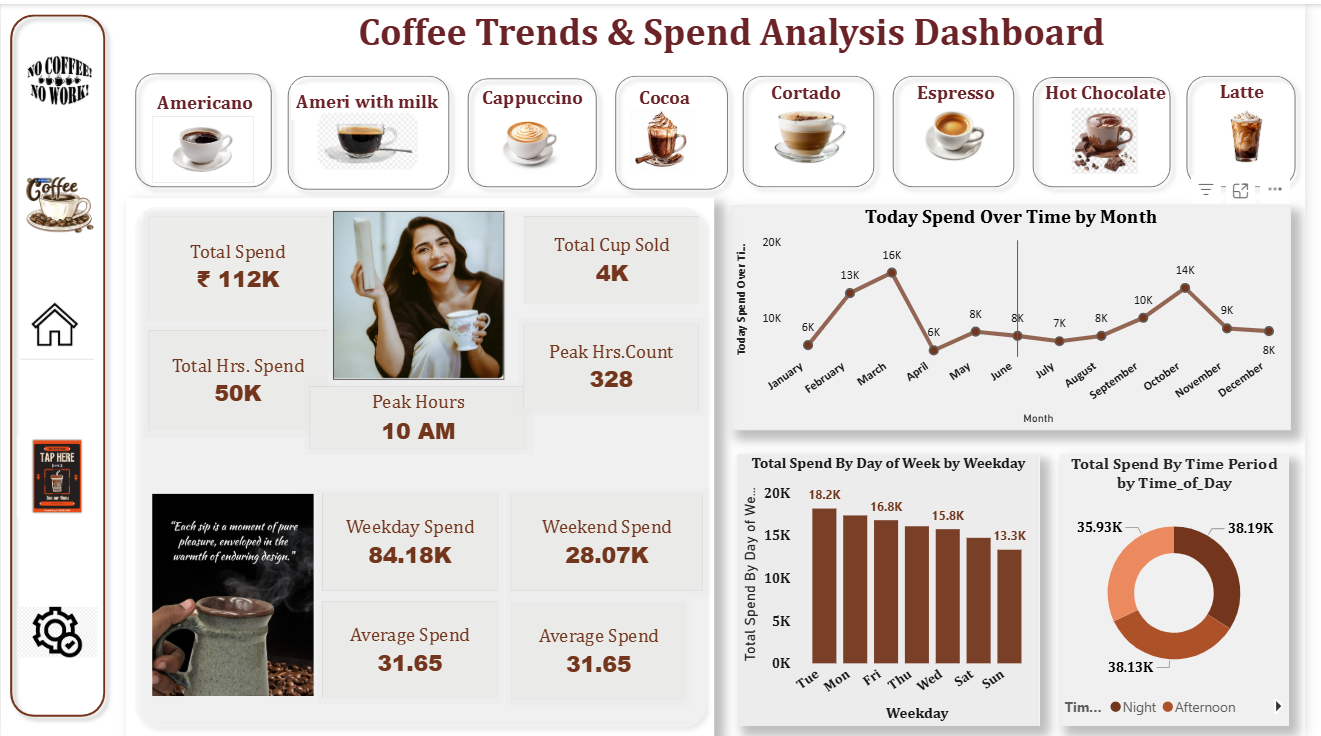

The page's visual inventory and layout, read from the dashboard file:
{"tool":"powerbi","page":{"name":"Coffee_spend_DA","canvas":[1280,720],"ordinal":0},"visuals":[{"type":"textbox","box":[298.2,0,774.2,62.6],"z":0},{"type":"shape","box":[122.7,196.3,517.8,500.6],"z":1000},{"type":"image","box":[298.2,203.7,169.3,166.9],"z":2000},{"type":"image","box":[139.9,477.3,170.6,208.6],"z":3000},{"type":"cardVisual","fields":{"Data":["Coffe_sales_project.Total Spend"]},"box":[139.9,203.7,158.3,109.2],"z":4000},{"type":"lineChart","fields":{"Category":["Coffe_sales_project.Date.Variation.Date Hierarchy.Month"],"Y":["Sum(Coffe_sales_project.money)"]},"box":[651.5,196.3,618.4,220.9],"z":5000},{"type":"columnChart","fields":{"Category":["Coffe_sales_project.Weekday"],"Y":["Sum(Coffe_sales_project.money)"]},"box":[651.5,429.5,337.4,267.5],"z":6000},{"type":"donutChart","fields":{"Category":["Coffe_sales_project.Time_of_Day"],"Y":["Sum(Coffe_sales_project.money)"]},"box":[1000,429.5,269.9,267.5],"z":7000},{"type":"shape","box":[0,1.2,111.2,707.5],"z":8000},{"type":"image","box":[18.4,272.4,73.6,85.9],"z":9000},{"type":"cardVisual","fields":{"Data":["Coffe_sales_project.Total Hrs. Spend"]},"box":[139.9,315.3,158.3,110.4],"z":10000},{"type":"cardVisual","fields":{"Data":["Coffe_sales_project.Peak Hours"]},"box":[298.2,370.6,175.5,71.2],"z":11000},{"type":"cardVisual","fields":{"Data":["Coffe_sales_project.Total Cup Sold"]},"box":[467.5,203.7,159.5,95.7],"z":12000},{"type":"cardVisual","fields":{"Data":["Coffe_sales_project.Peak Hrs.Count"]},"box":[467.5,308,159.5,95.7],"z":13000},{"type":"cardVisual","fields":{"Data":["Coffe_sales_project.Weekday Spend"]},"box":[310.4,476.1,157.1,93.3],"z":14000},{"type":"cardVisual","fields":{"Data":["Coffe_sales_project.Weekend Spend"]},"box":[473.6,476.1,153.4,93.3],"z":15000},{"type":"cardVisual","fields":{"Data":["Coffe_sales_project.Average Spend"]},"box":[310.4,581.6,157.1,93.3],"z":16000},{"type":"cardVisual","fields":{"Data":["Coffe_sales_project.Average Spend"]},"box":[473.6,581.6,153.4,92],"z":17000},{"type":"image","box":[18.4,30.7,78.5,88.3],"z":18000},{"type":"image","box":[16,398.8,78.5,130.1],"z":19000},{"type":"image","box":[16,569.3,78.5,94.5],"z":20000},{"type":"image","box":[18.4,119,78.5,154.6],"z":21000},{"type":"ChicletSlicer1448559807354","fields":{"Category":["Coffe_sales_project.coffee_name"],"Image":["Coffee_image_link.Image_link"]},"box":[122.7,56.4,1157.1,139.9],"z":22000}]}

Visuals, with their boxes in screenshot pixels (x1, y1, x2, y2), scaled from the page's 1280x720 canvas onto the 1321x736 screenshot:
textbox: BBox(308, 0, 1107, 64)
shape: BBox(127, 201, 661, 712)
image: BBox(308, 208, 482, 379)
image: BBox(144, 488, 320, 701)
cardVisual - Coffe_sales_project.Total Spend: BBox(144, 208, 308, 320)
lineChart - Coffe_sales_project.Date.Variation.Date Hierarchy.Month x Sum(Coffe_sales_project.money): BBox(672, 201, 1311, 426)
columnChart - Coffe_sales_project.Weekday x Sum(Coffe_sales_project.money): BBox(672, 439, 1021, 712)
donutChart - Coffe_sales_project.Time_of_Day x Sum(Coffe_sales_project.money): BBox(1032, 439, 1311, 712)
shape: BBox(0, 1, 115, 724)
image: BBox(19, 278, 95, 366)
cardVisual - Coffe_sales_project.Total Hrs. Spend: BBox(144, 322, 308, 435)
cardVisual - Coffe_sales_project.Peak Hours: BBox(308, 379, 489, 452)
cardVisual - Coffe_sales_project.Total Cup Sold: BBox(482, 208, 647, 306)
cardVisual - Coffe_sales_project.Peak Hrs.Count: BBox(482, 315, 647, 413)
cardVisual - Coffe_sales_project.Weekday Spend: BBox(320, 487, 482, 582)
cardVisual - Coffe_sales_project.Weekend Spend: BBox(489, 487, 647, 582)
cardVisual - Coffe_sales_project.Average Spend: BBox(320, 595, 482, 690)
cardVisual - Coffe_sales_project.Average Spend: BBox(489, 595, 647, 689)
image: BBox(19, 31, 100, 122)
image: BBox(17, 408, 98, 541)
image: BBox(17, 582, 98, 679)
image: BBox(19, 122, 100, 280)
ChicletSlicer1448559807354 - Coffe_sales_project.coffee_name x Coffee_image_link.Image_link: BBox(127, 58, 1320, 201)
